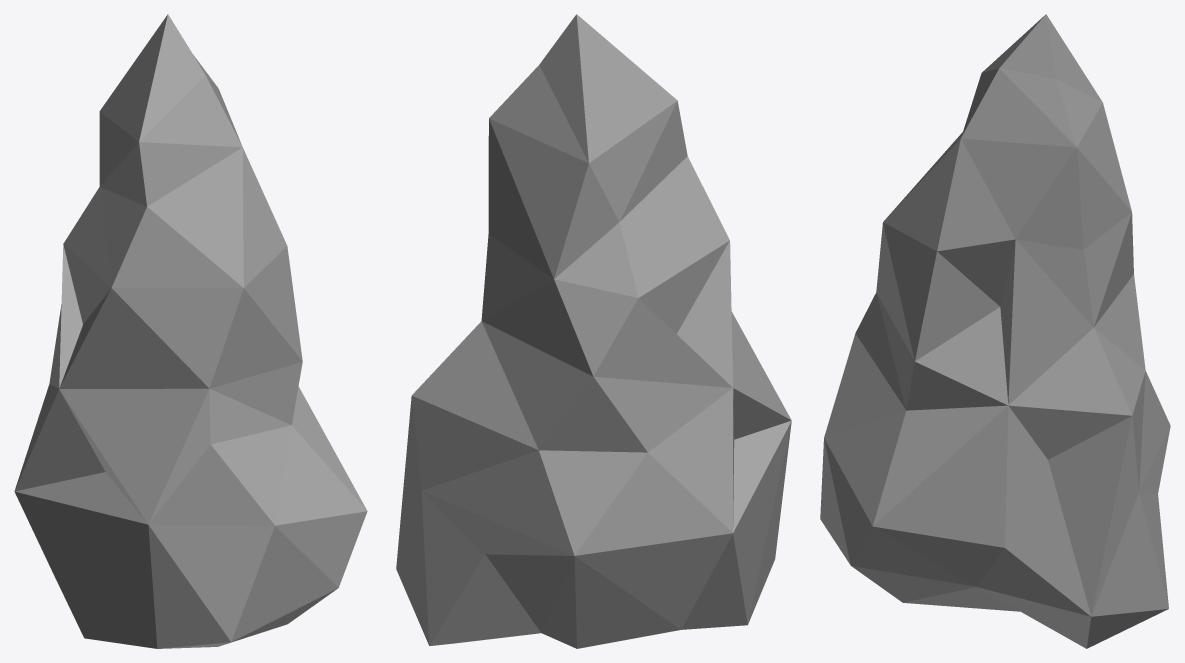
Rendered from rock4.fbx.
The picture shows the model from 3 angles, left to right: view 1: azimuth 30°, elevation 25°; view 2: azimuth 150°, elevation 25°; view 3: azimuth 270°, elevation 25°; orthographic projection. The views are drawn at different scales.
Visible parts, largest first — view 1: rock4; view 2: rock4; view 3: rock4.
Boxes of the visible parts, box(x1,y1,x2,y2) form: rock4: box(14, 14, 367, 648); rock4: box(396, 14, 791, 648); rock4: box(820, 14, 1170, 648).
Size of the model in its own units: 74.14 by 143 by 76.75.
